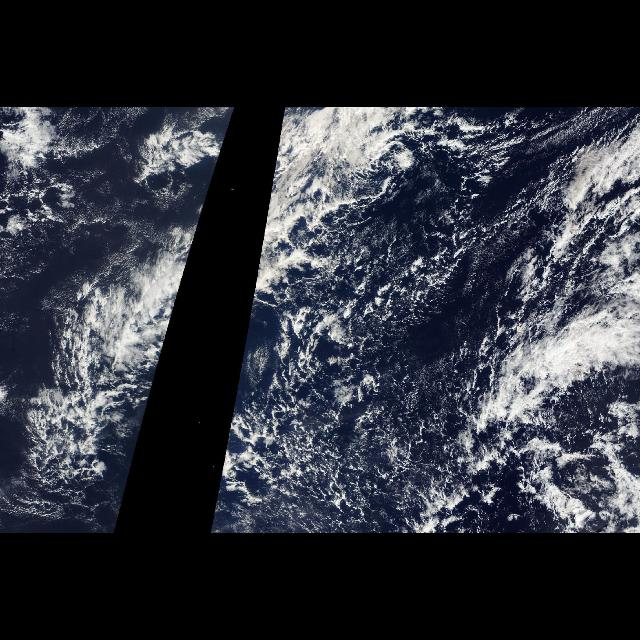Gravel: (216, 175, 640, 530)
